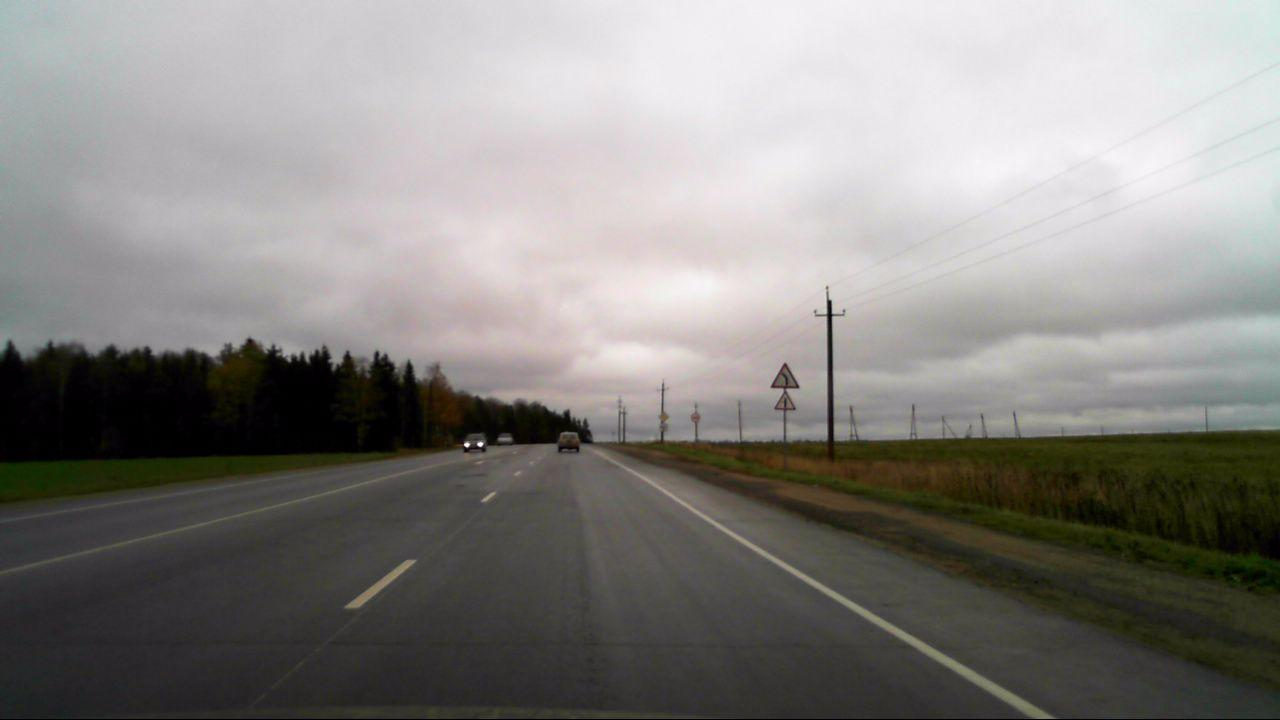road_sign: (768, 360, 803, 390), (771, 391, 800, 411)
